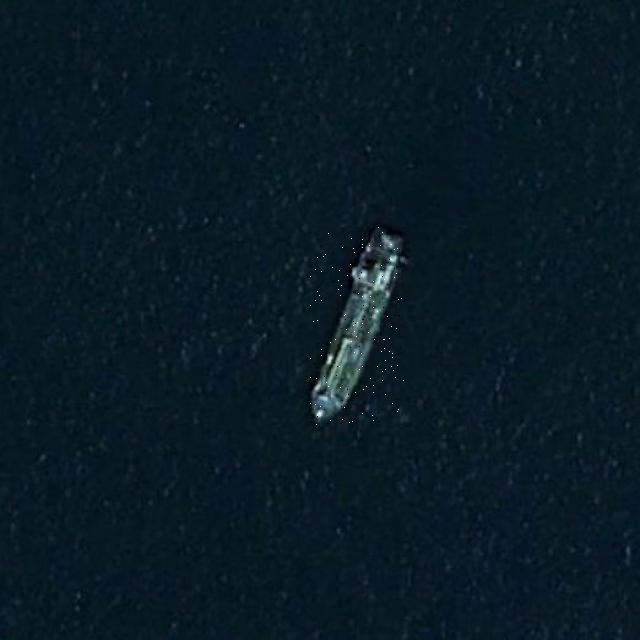boat: (309, 228, 405, 426)
